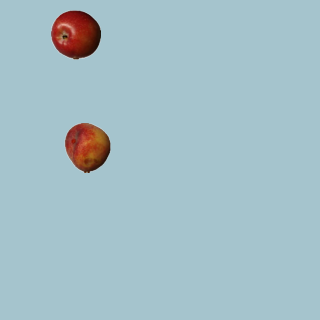Apple Braeburn: (50, 9, 100, 59)
Peach: (62, 122, 112, 172)
